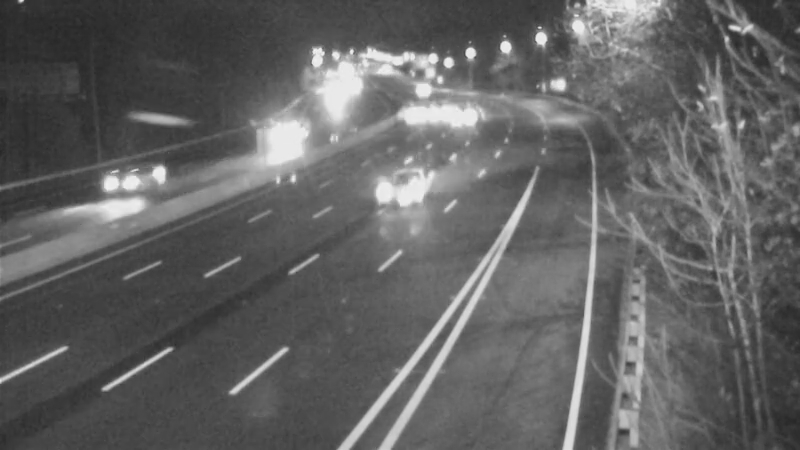vehicle: (354, 153, 434, 233), (78, 144, 158, 224), (393, 63, 443, 113), (409, 85, 459, 135), (385, 90, 435, 140), (436, 92, 486, 142), (259, 106, 309, 156)
